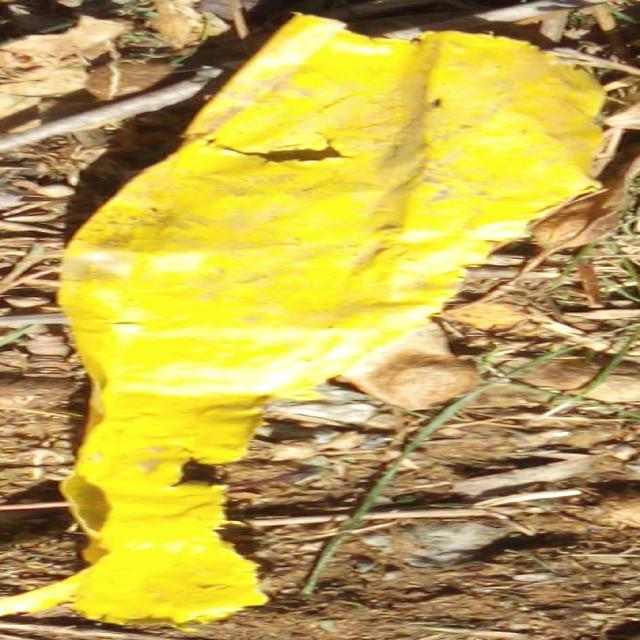litter: (15, 16, 609, 627)
